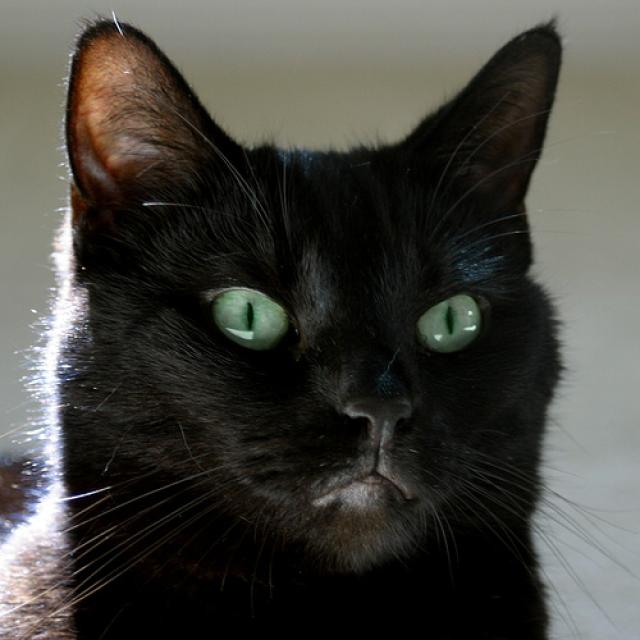cat: (1, 11, 638, 639)
